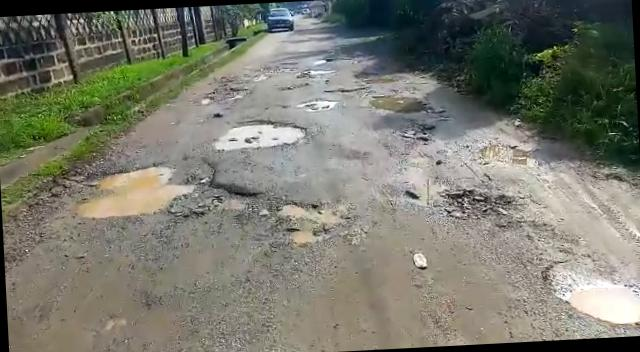pothole: (69, 153, 254, 221), (543, 257, 640, 329), (277, 195, 355, 244), (441, 182, 525, 225), (214, 117, 314, 150), (476, 134, 541, 169), (369, 90, 434, 116), (391, 124, 436, 146), (295, 98, 340, 112), (319, 85, 374, 95)
